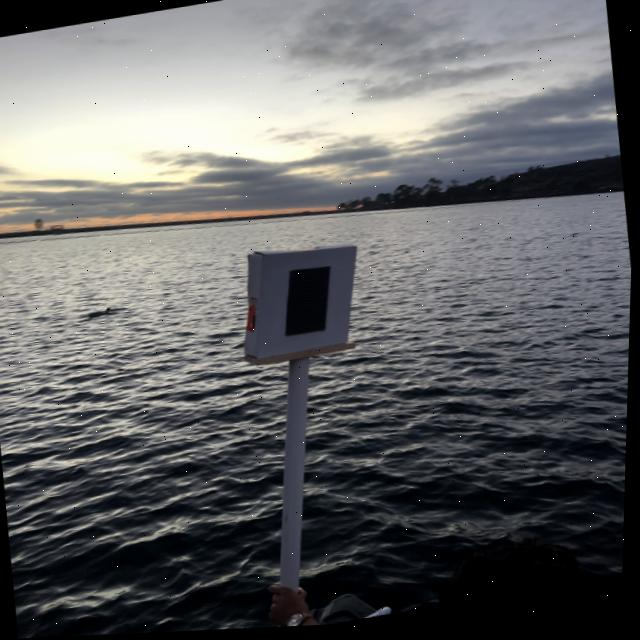led: (257, 249, 349, 360)
